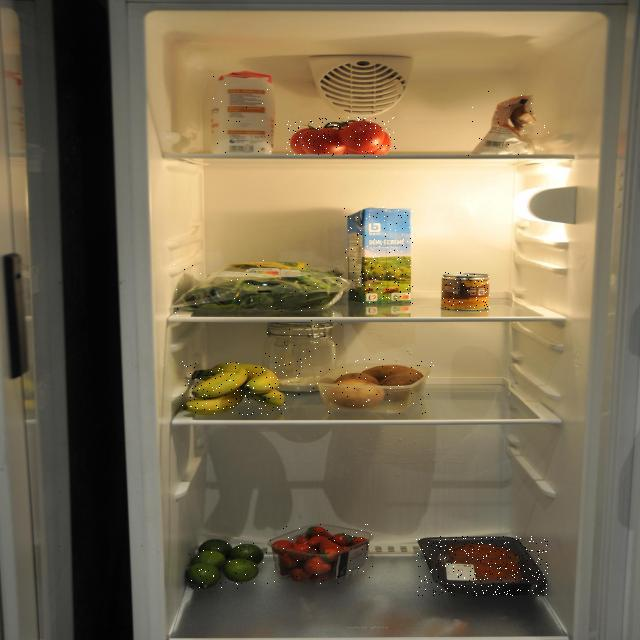banana: (182, 361, 286, 415)
beef: (416, 536, 548, 596)
corn: (442, 272, 490, 312)
flour: (260, 320, 342, 398), (466, 91, 556, 156)
lime: (187, 539, 264, 589)
milk: (344, 207, 413, 304)
potato: (321, 359, 435, 416)
spinach: (174, 259, 350, 317)
strawberries: (266, 522, 374, 584)
sugar: (210, 70, 276, 154)
tomato: (286, 117, 396, 157)
